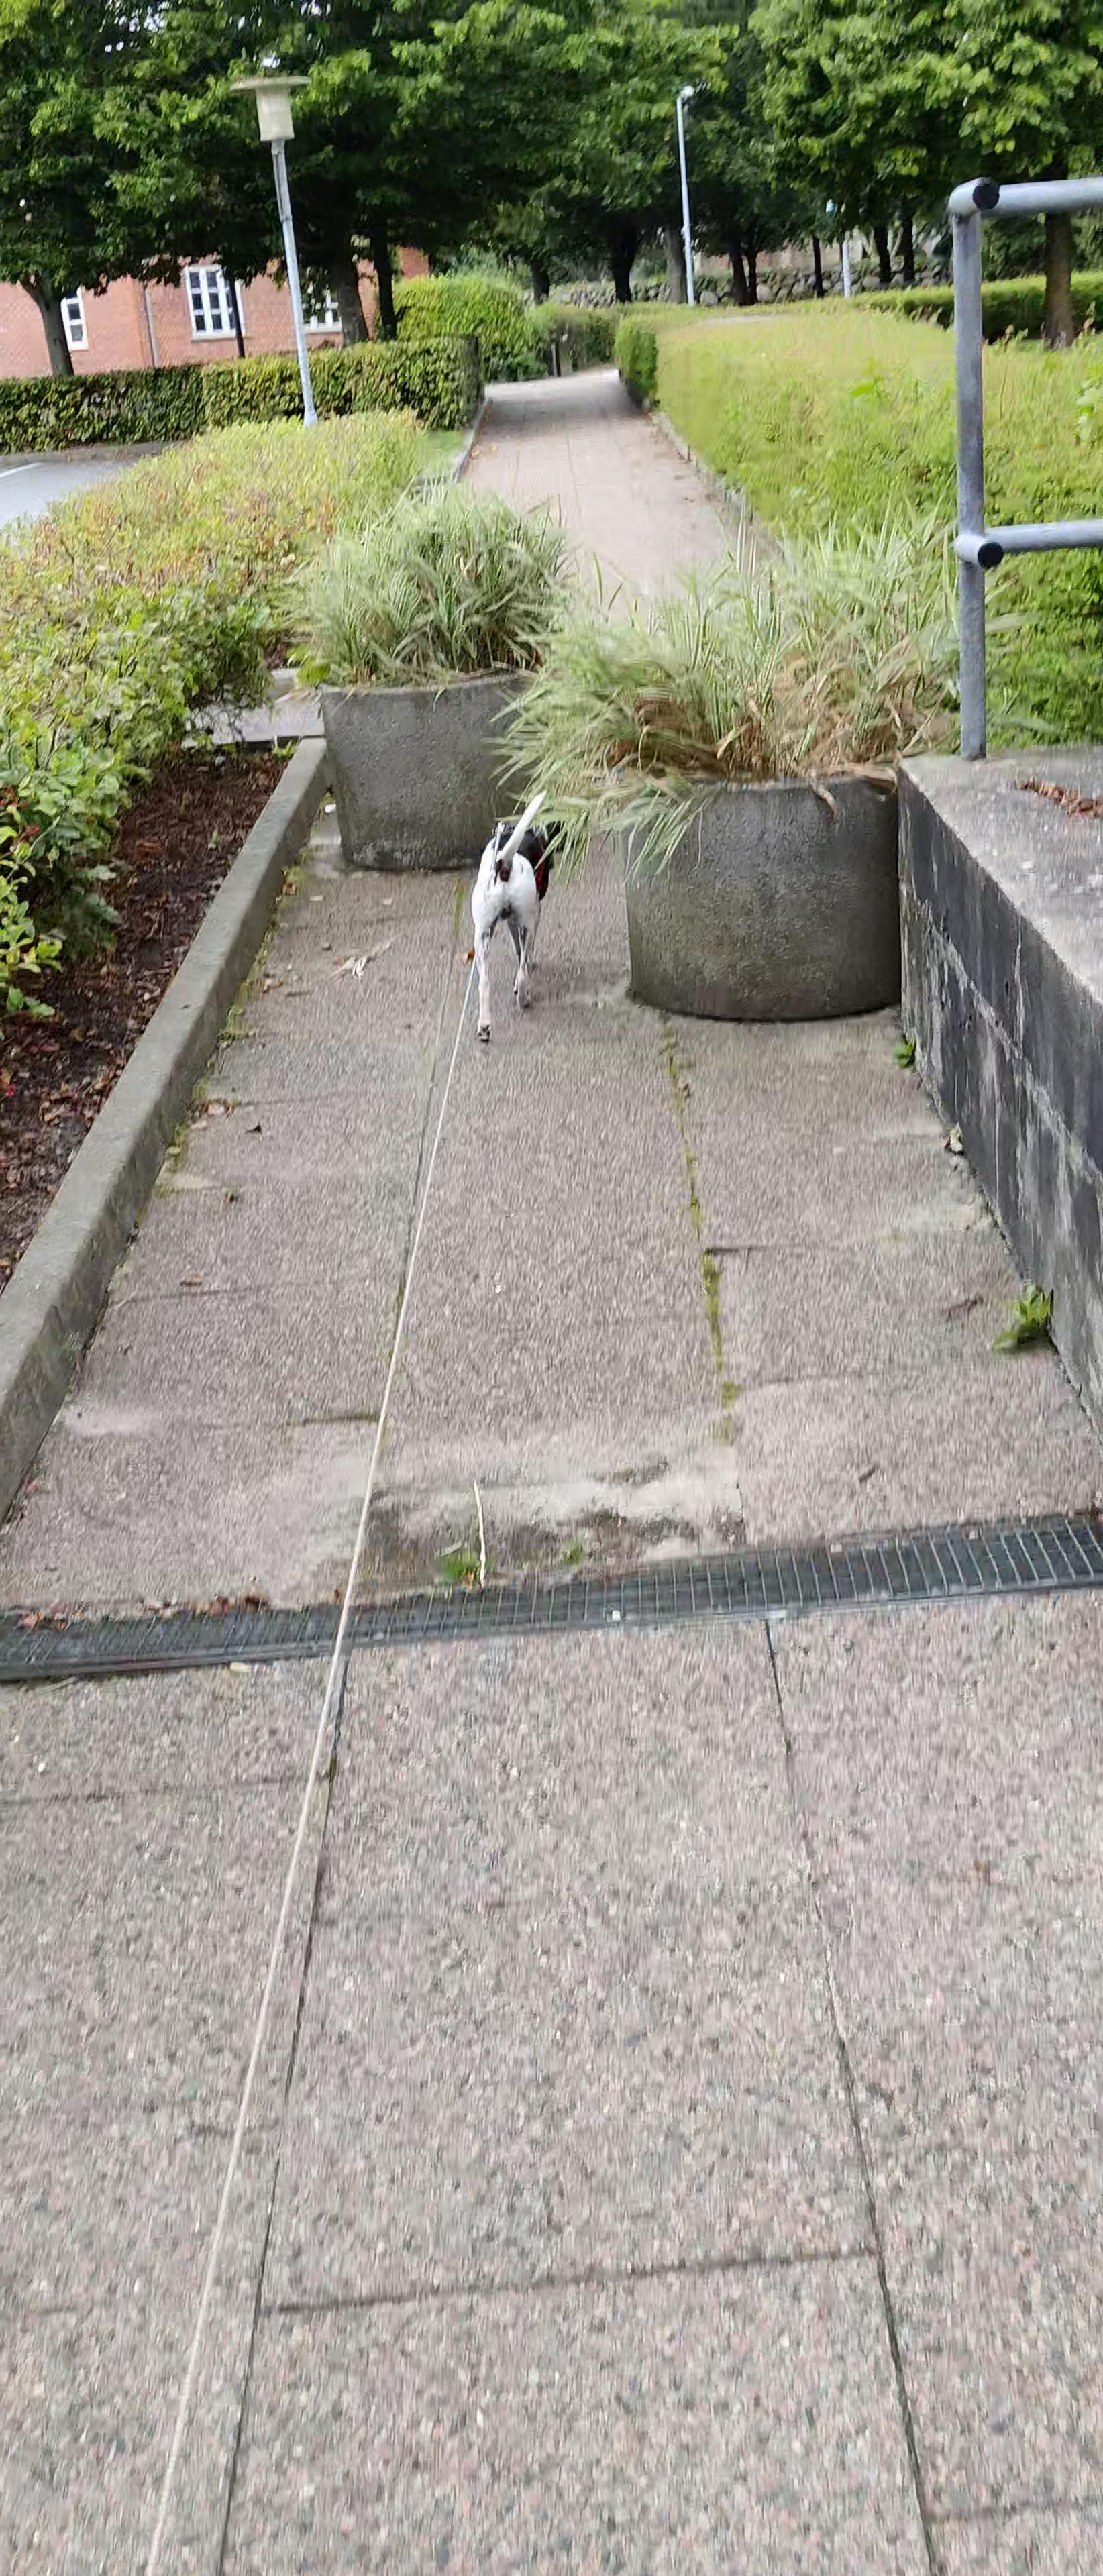Dog: (472, 787, 570, 1046)
